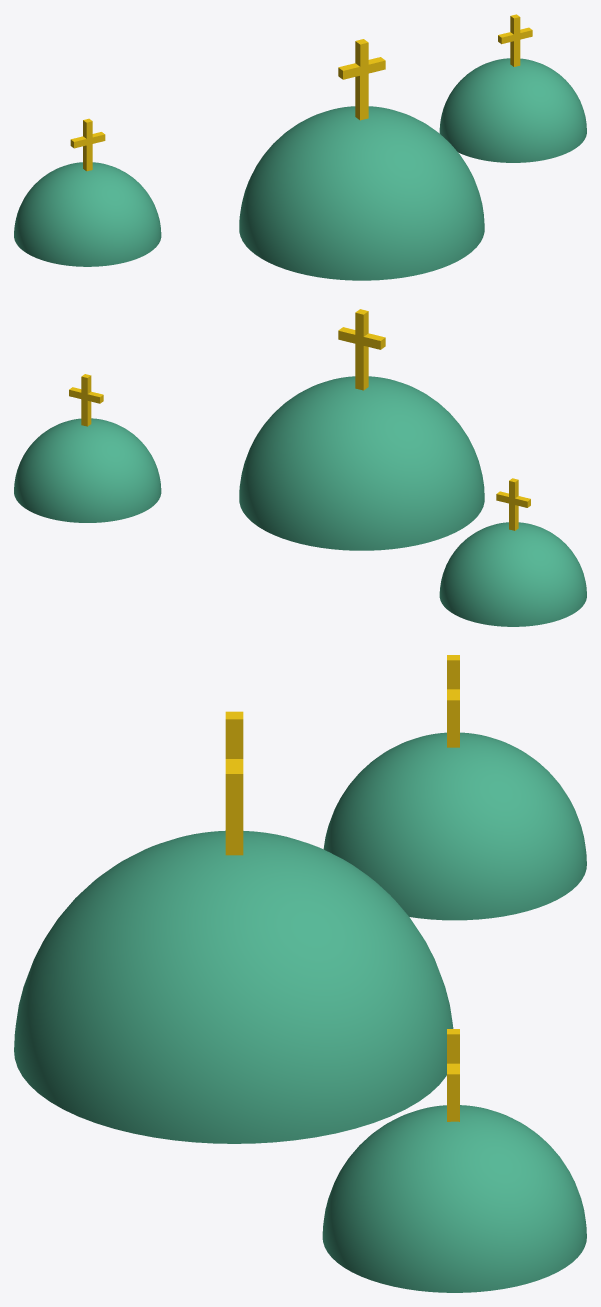
File: Day 12 - ChurchRoof.glb
3 views of the same model, one above another, from view 1: azimuth 30°, elevation 25°; view 2: azimuth 150°, elevation 25°; view 3: azimuth 270°, elevation 25° (orthographic). The views are drawn at different scales.
Visible parts, largest first — view 1: Body1, Body2, Body3, Body4, Body5, Body6; view 2: Body1, Body3, Body2, Body4, Body5, Body6; view 3: Body1, Body3, Body2, Body4, Body5, Body6.
Boxes of the visible parts, x1,y1,x2,y2 form: Body1: [239, 106, 484, 280]; Body2: [14, 162, 161, 266]; Body3: [439, 58, 586, 162]; Body4: [338, 39, 385, 120]; Body5: [498, 14, 532, 66]; Body6: [70, 118, 105, 171]; Body1: [239, 376, 484, 550]; Body3: [14, 418, 161, 522]; Body2: [439, 522, 586, 626]; Body4: [338, 309, 385, 390]; Body5: [69, 374, 103, 426]; Body6: [496, 478, 530, 530]; Body1: [14, 830, 453, 1143]; Body3: [322, 1105, 586, 1292]; Body2: [323, 732, 586, 920]; Body4: [225, 711, 243, 855]; Body5: [447, 1029, 459, 1121]; Body6: [447, 655, 459, 747].
Size of the model in its own units: 8.39 by 2.71 by 4.19.
